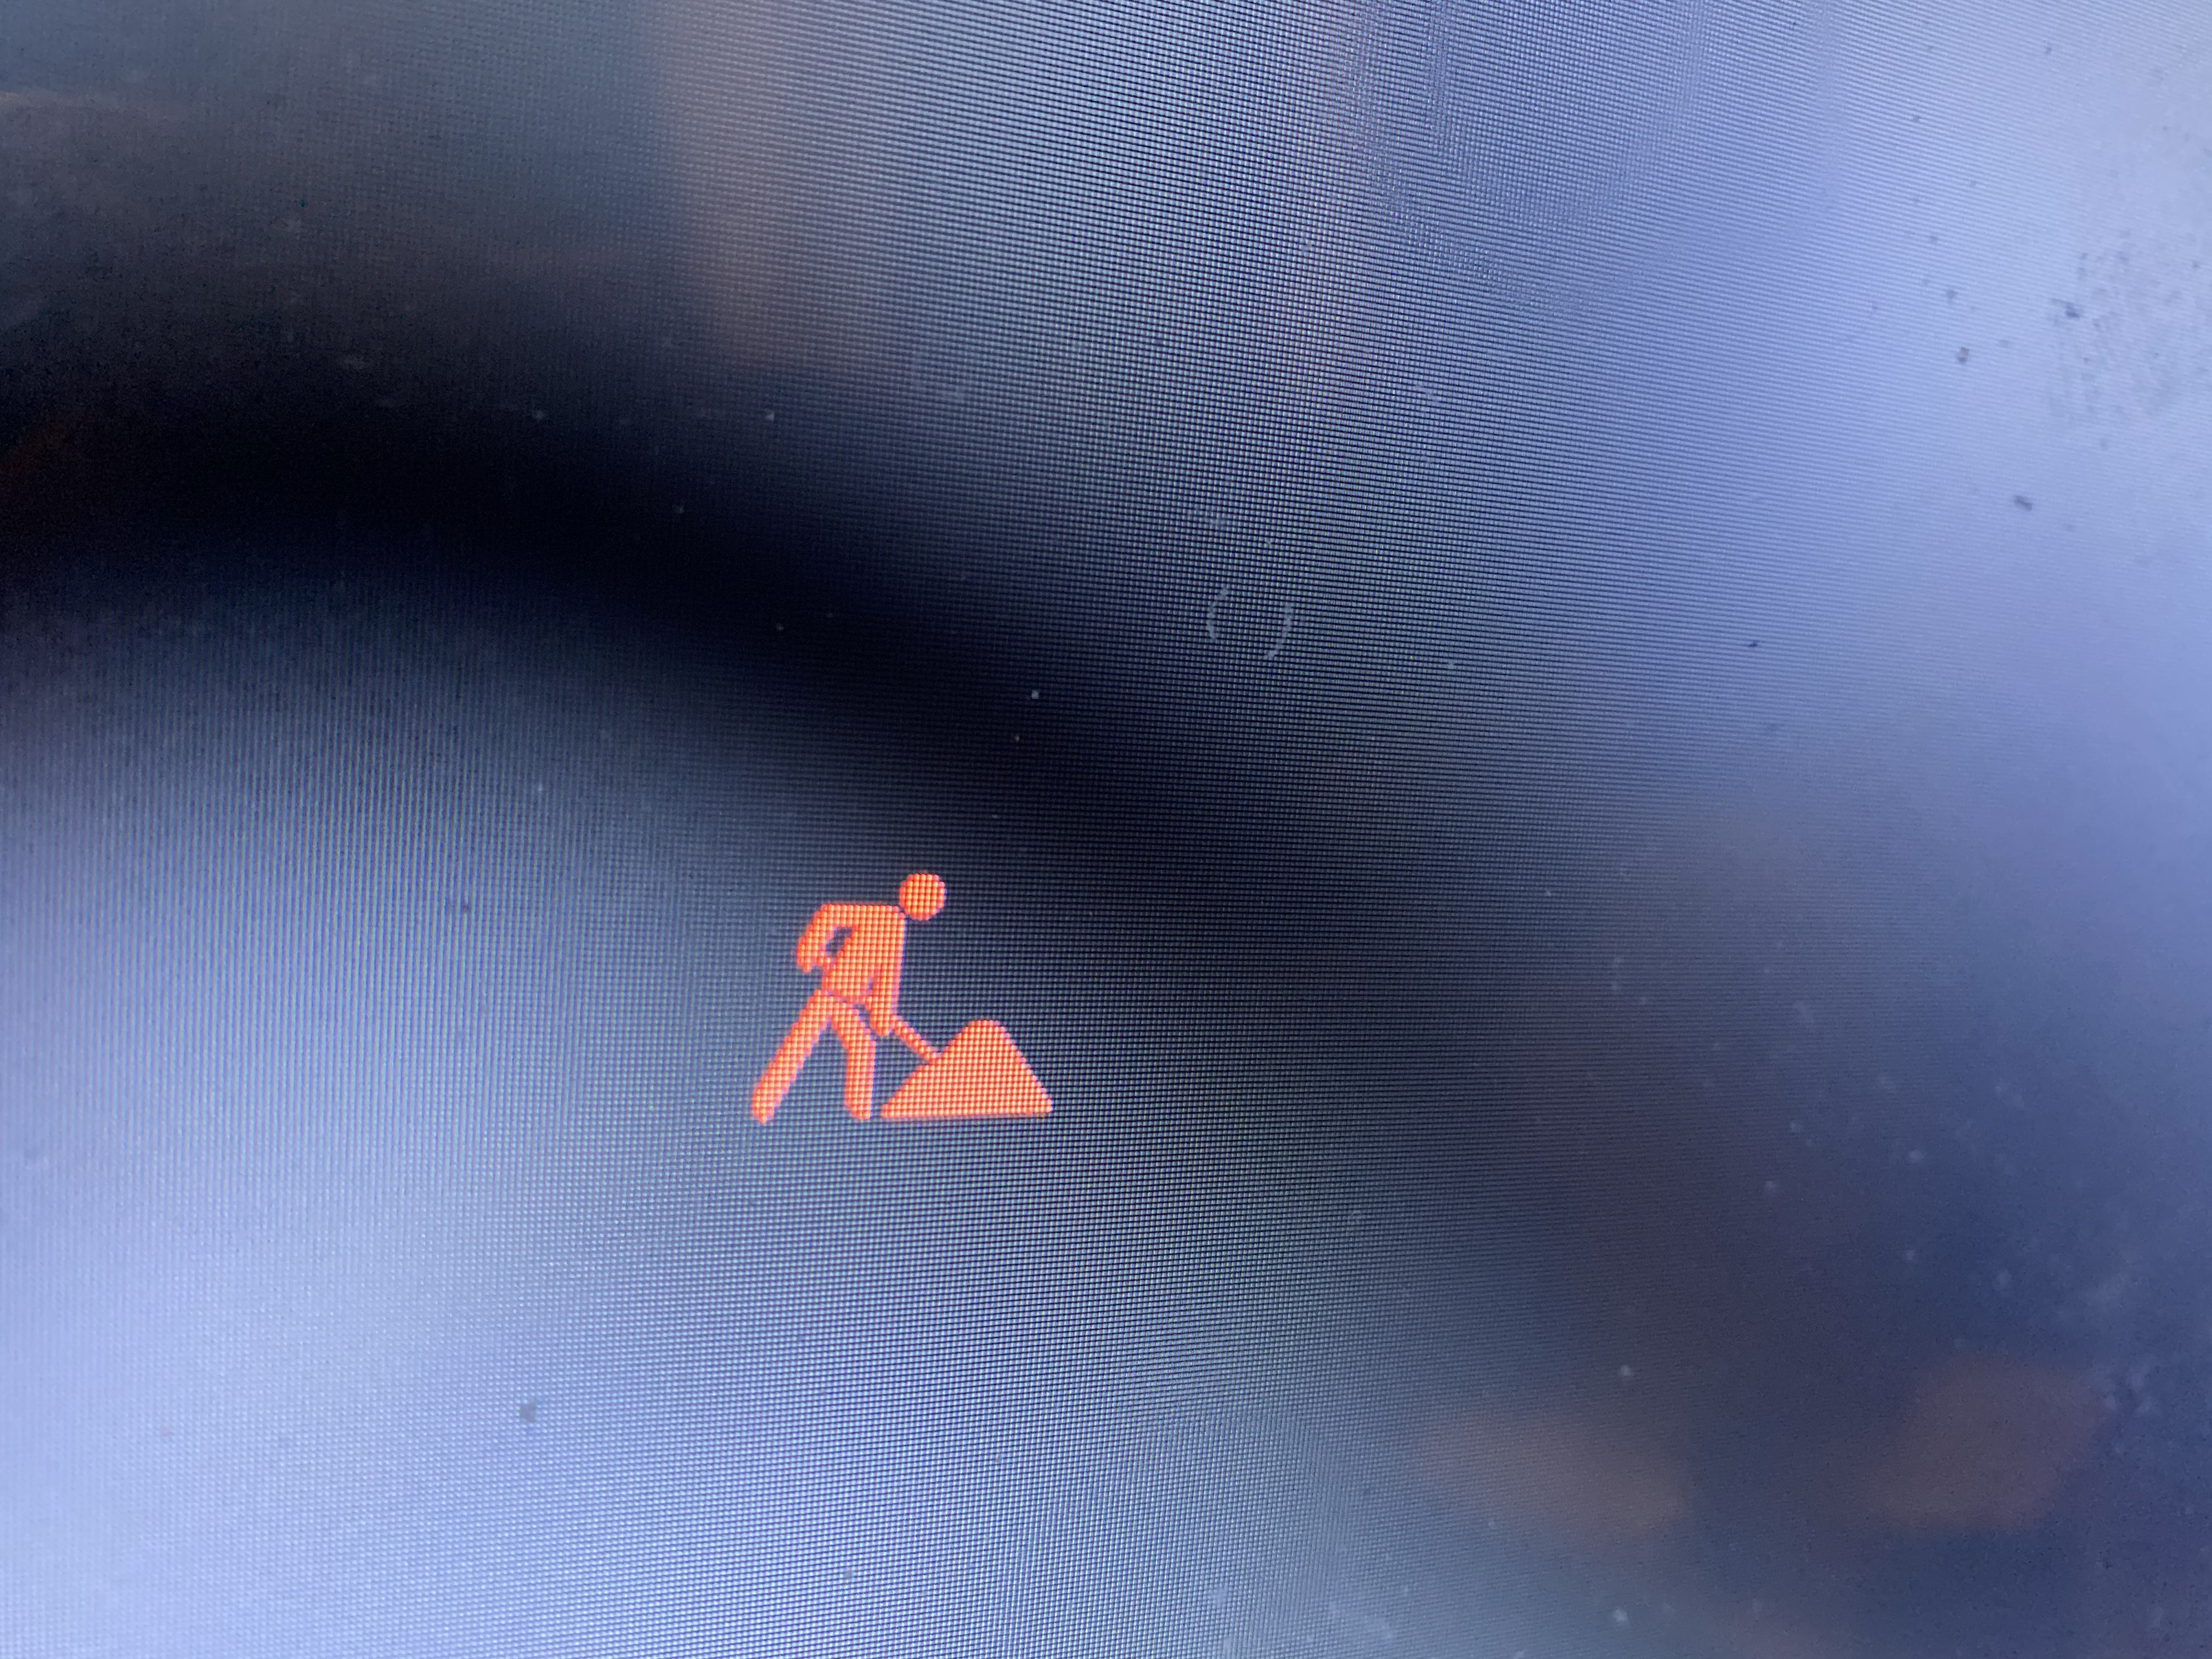CONSTRUCTION: (704, 840, 1090, 1155)
